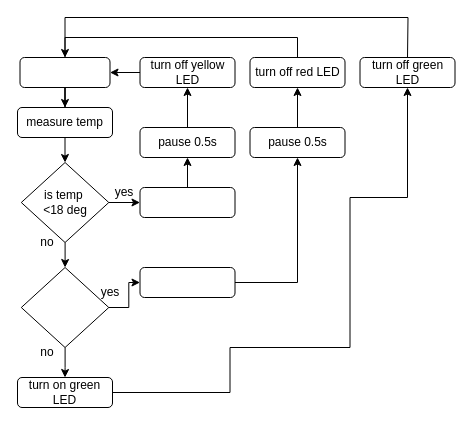
This 473x425 diagram has some shape labels left out. Each missing label, with the centre of its shape:
is temp >24 deg: pixel 64 307
start: pixel 64 72
turn on red LED: pixel 187 282
turn on yellow LED: pixel 187 202
